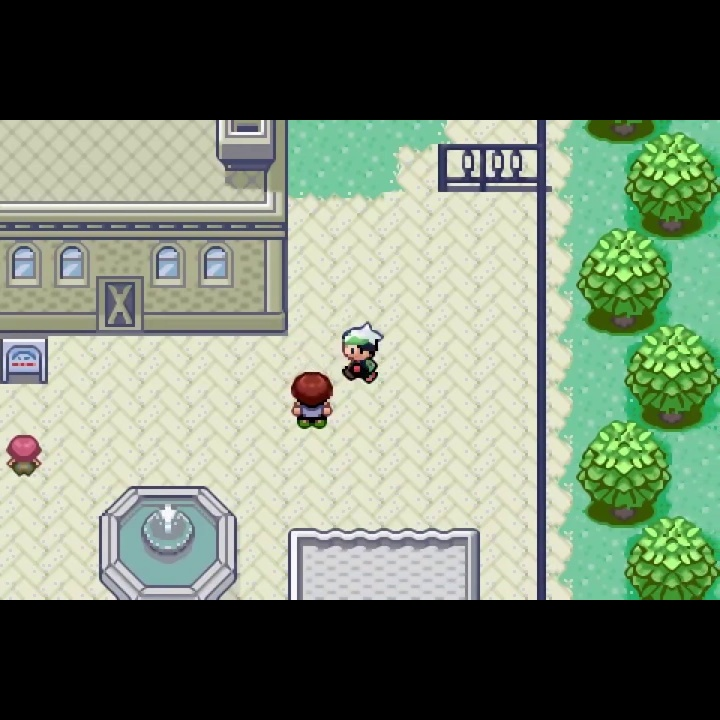house: (1, 120, 290, 338), (285, 528, 482, 600)
npc: (336, 319, 385, 389), (288, 370, 335, 432), (3, 431, 45, 481)
wall: (576, 419, 673, 528), (576, 229, 673, 337), (624, 322, 720, 431), (626, 133, 720, 241), (623, 517, 720, 600), (583, 121, 663, 146)
